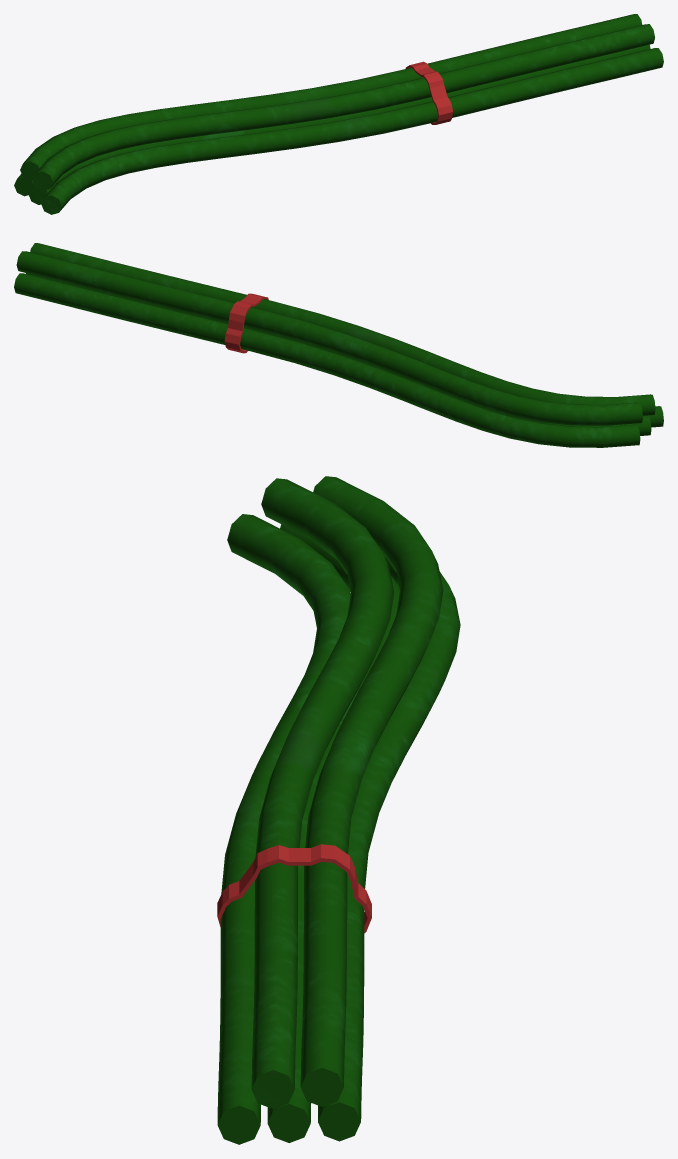
Rendered from Sitaw.glb.
3 renders of one model, top to bottom at view 1: azimuth 30°, elevation 25°; view 2: azimuth 150°, elevation 25°; view 3: azimuth 270°, elevation 25°, orthographic. The views are drawn at different scales.
Parts seen in each view (by area): view 1: Cylinder; view 2: Cylinder; view 3: Cylinder.
Part boxes in pixels (bbox=[...]): Cylinder: bbox=[14, 14, 663, 214]; Cylinder: bbox=[14, 243, 663, 447]; Cylinder: bbox=[217, 476, 460, 1144].
Size of the model in its own units: 3.27 by 0.2228 by 0.5597.
Materials: 1 (1 with a texture image).
